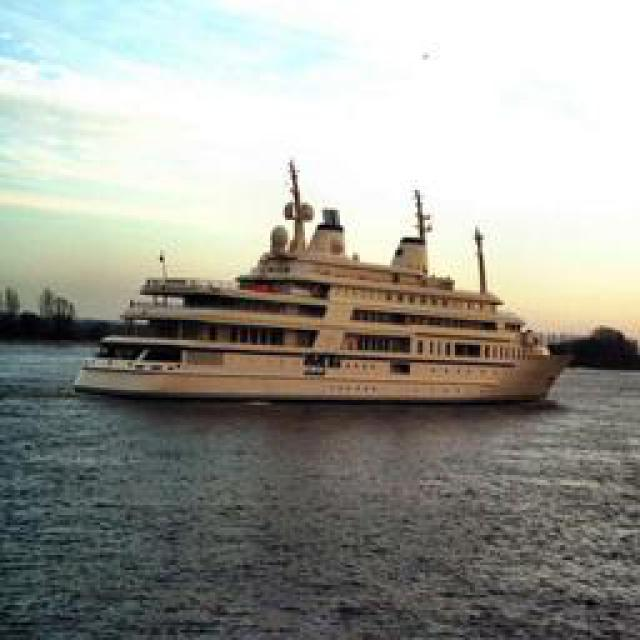Ship: (72, 169, 570, 412)
